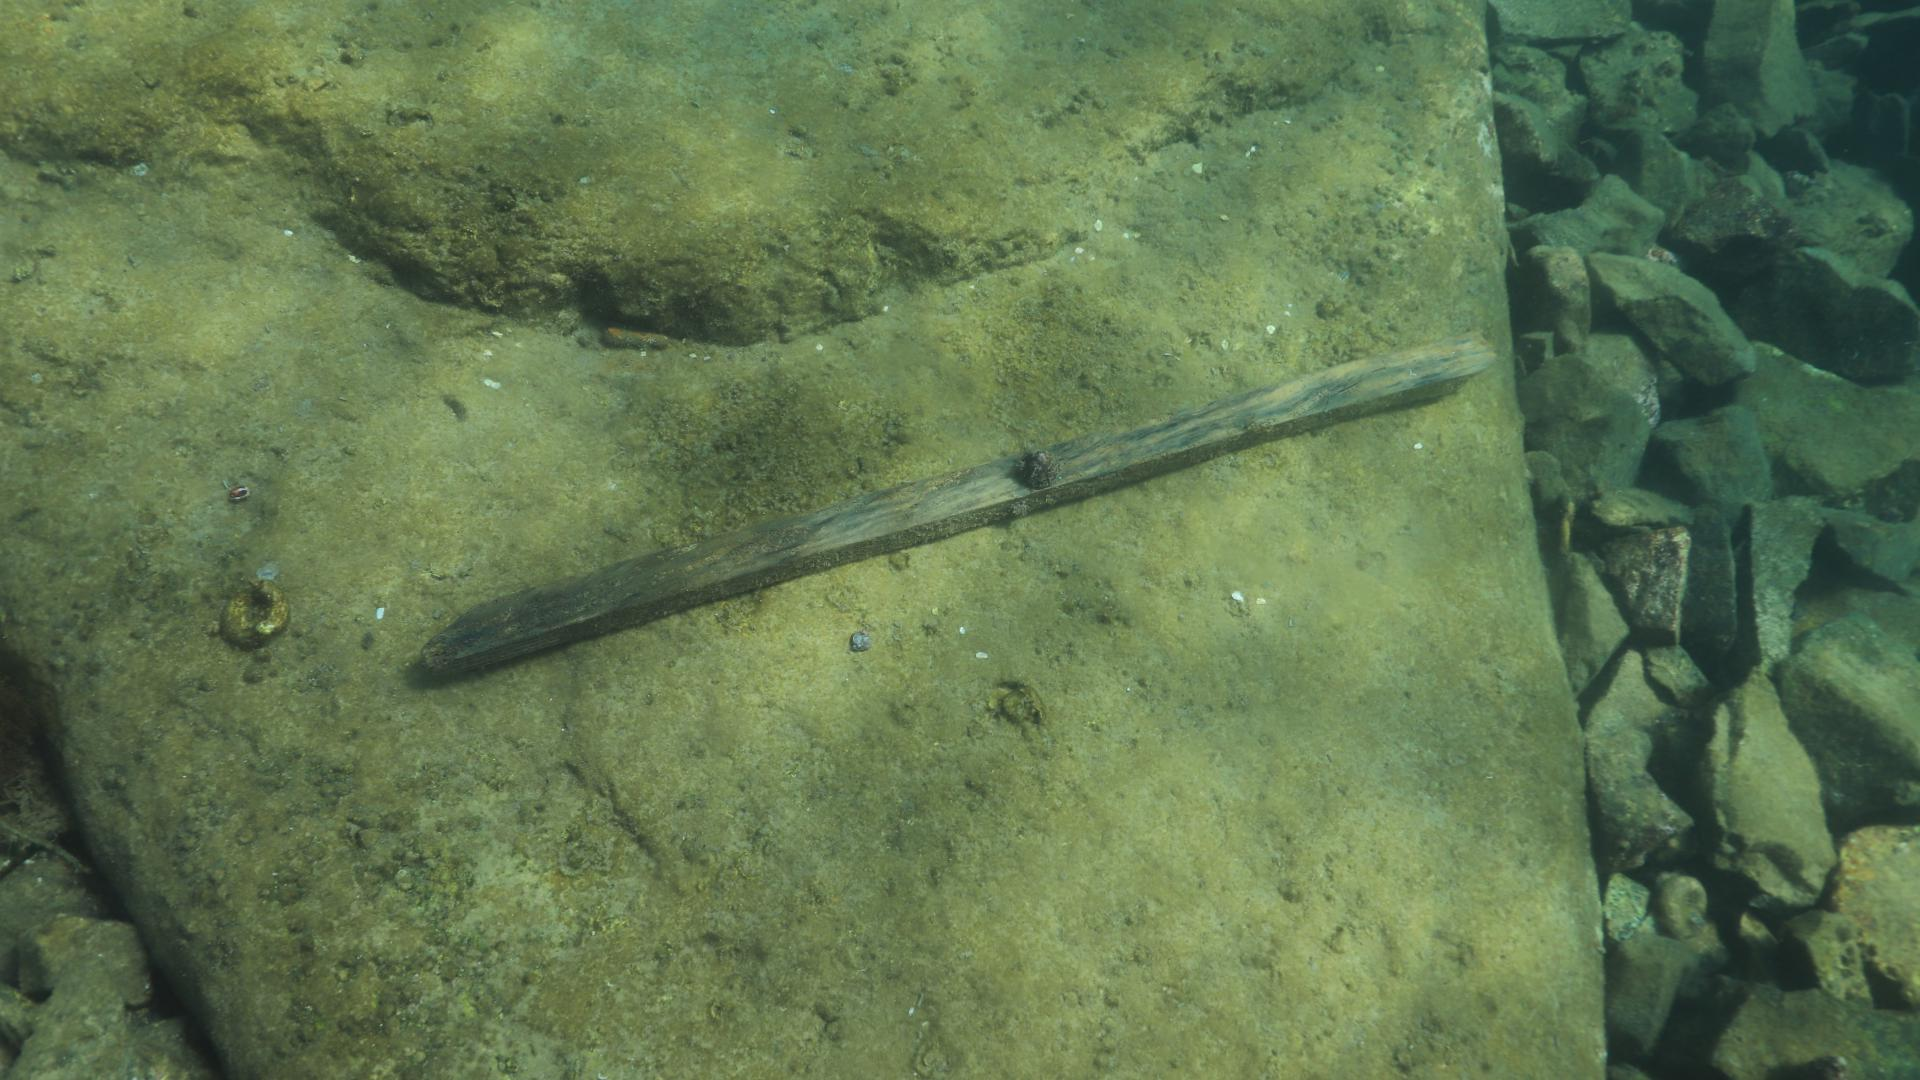wood: (413, 327, 1501, 684)
